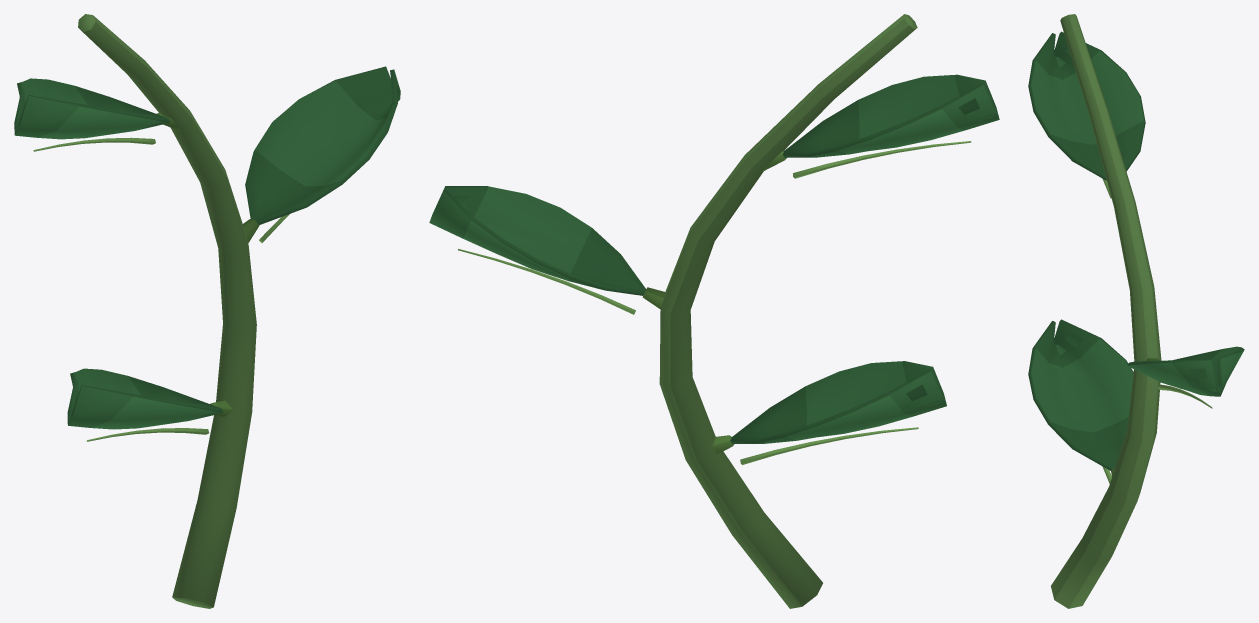
Rendered from garden-geranium-leaves-stem-3.glb.
The picture shows the model from 3 angles, left to right: view 1: azimuth 30°, elevation 25°; view 2: azimuth 150°, elevation 25°; view 3: azimuth 270°, elevation 25°; orthographic projection. The views are drawn at different scales.
Visible parts, largest first — view 1: geranium-leaves-stem-3; view 2: geranium-leaves-stem-3; view 3: geranium-leaves-stem-3.
Boxes of the visible parts, <box> form: geranium-leaves-stem-3: <box>14,14,400,608</box>; geranium-leaves-stem-3: <box>429,14,999,608</box>; geranium-leaves-stem-3: <box>1028,14,1244,608</box>.
Bounding box in the file's own units: 0.1768 × 0.2186 × 0.0787.
